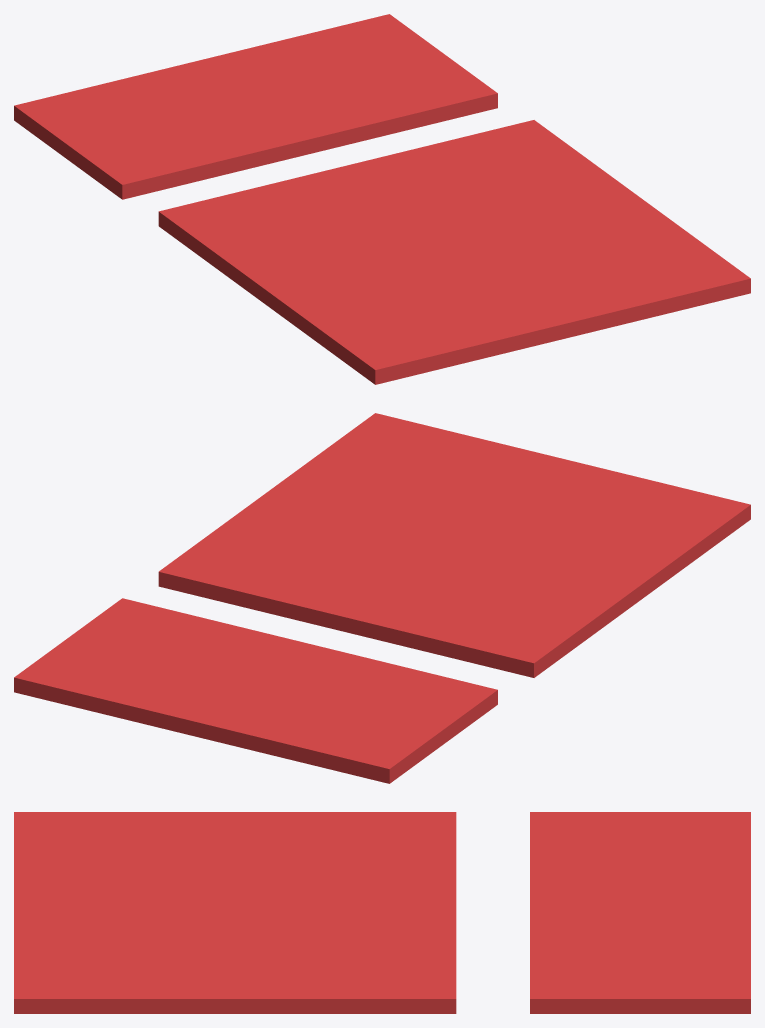
The model's file is Ceiling_Loose_1.fbx.
3 views of the same model, one above another, from view 1: azimuth 30°, elevation 25°; view 2: azimuth 150°, elevation 25°; view 3: azimuth 270°, elevation 25° (orthographic).
Visible parts, largest first — view 1: FullCeiling, HalfCeiling; view 2: FullCeiling, HalfCeiling; view 3: FullCeiling, HalfCeiling.
Part boxes in pixels (left/top/right/bottom): FullCeiling: left=158, top=120, right=750, bottom=384; HalfCeiling: left=14, top=14, right=497, bottom=199; FullCeiling: left=158, top=413, right=750, bottom=677; HalfCeiling: left=14, top=598, right=497, bottom=783; FullCeiling: left=14, top=812, right=456, bottom=1013; HalfCeiling: left=530, top=812, right=750, bottom=1013.
Size of the model in its own units: 300 by 11.3 by 500.
